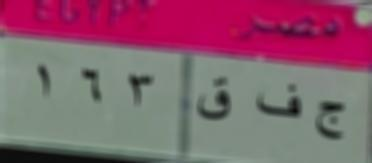1: (28, 54, 61, 108)
3: (124, 59, 160, 116)
6: (72, 62, 110, 108)
faa: (254, 76, 307, 127)
jeem: (312, 86, 350, 144)
qaaf: (191, 68, 240, 131)
